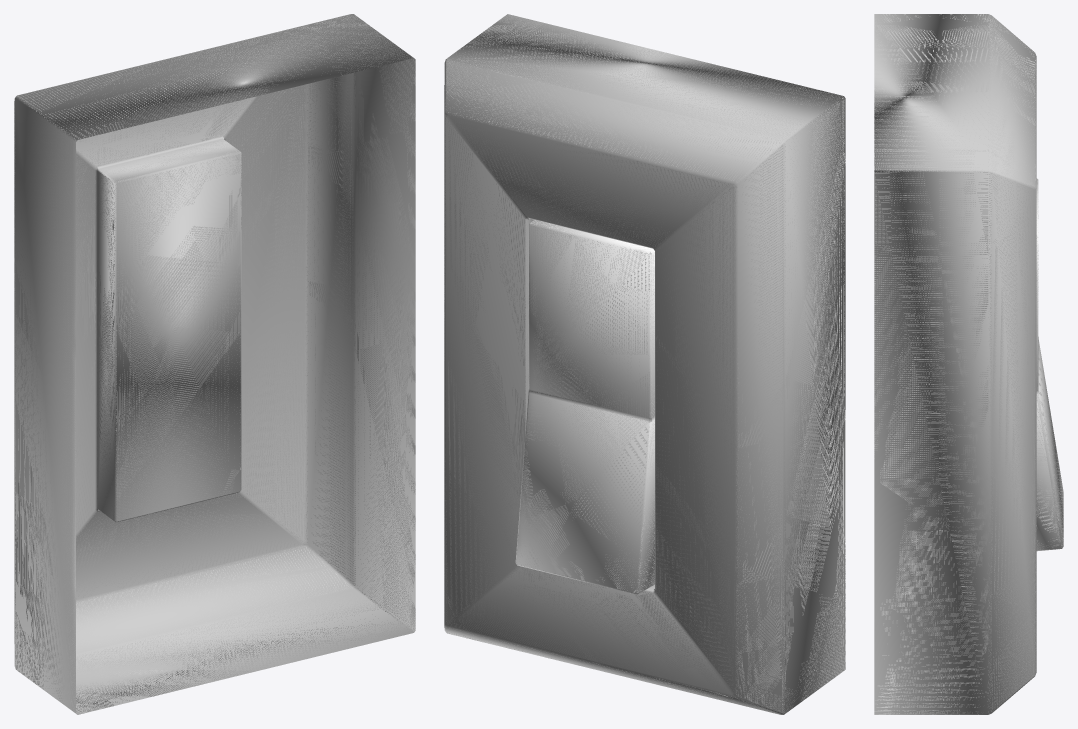
File: wall_switch.fbx
3 views of the same model, side by side, from view 1: azimuth 30°, elevation 25°; view 2: azimuth 150°, elevation 25°; view 3: azimuth 270°, elevation 25° (orthographic). The views are drawn at different scales.
Visible parts, largest first — view 1: Light switch.003; view 2: Light switch.003; view 3: Light switch.003.
Part boxes in pixels (<box>): Light switch.003: <box>14,14,415,714</box>; Light switch.003: <box>444,14,845,714</box>; Light switch.003: <box>874,14,1063,714</box>.
Bounding box in the file's own units: 9.3 × 15.04 × 4.72.
